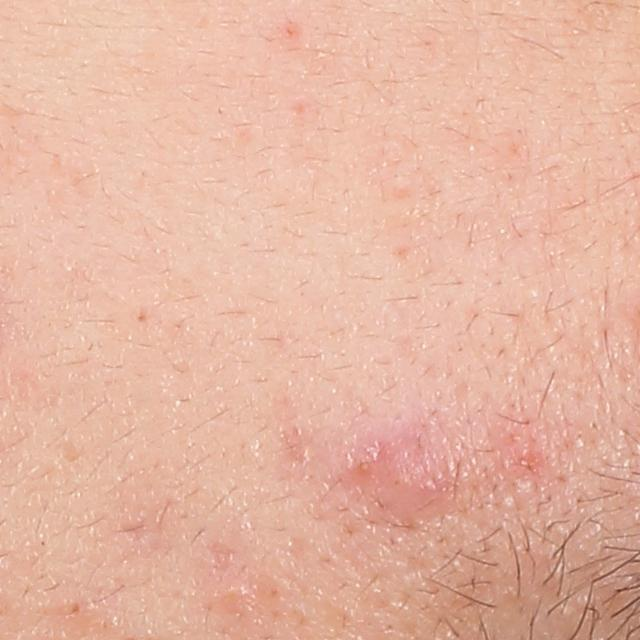papule: (350, 434, 400, 491)
